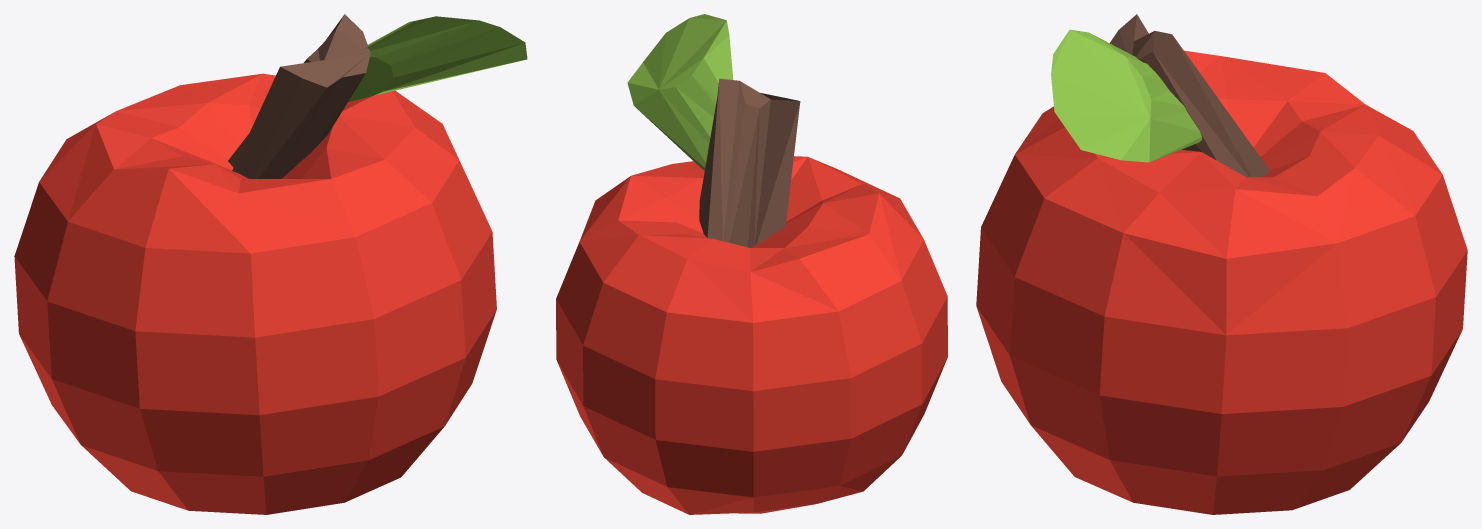
File: apple.glb
The picture shows the model from 3 angles, left to right: view 1: azimuth 30°, elevation 25°; view 2: azimuth 150°, elevation 25°; view 3: azimuth 270°, elevation 25°; orthographic projection. The views are drawn at different scales.
Parts seen in each view (by area): view 1: group1767541972, group308946645, group377048224; view 2: group1767541972, group308946645, group377048224; view 3: group1767541972, group377048224, group308946645.
Boxes of the visible parts, x1,y1,x2,y2 form: group1767541972: (14,73,496,514); group308946645: (228,14,370,178); group377048224: (348,16,527,101); group1767541972: (556,156,947,514); group308946645: (699,78,800,247); group377048224: (627,14,733,170); group1767541972: (976,50,1467,514); group377048224: (1051,29,1202,162); group308946645: (1110,14,1270,177).
Bounding box in the file's own units: 0.8212 × 0.931 × 0.8241.
